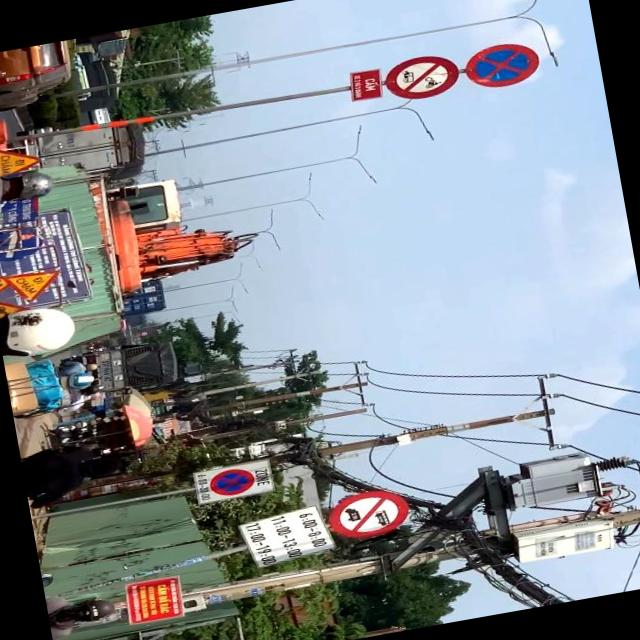P-104: (382, 50, 459, 102)
P-130: (460, 40, 540, 94), (207, 464, 257, 498)
